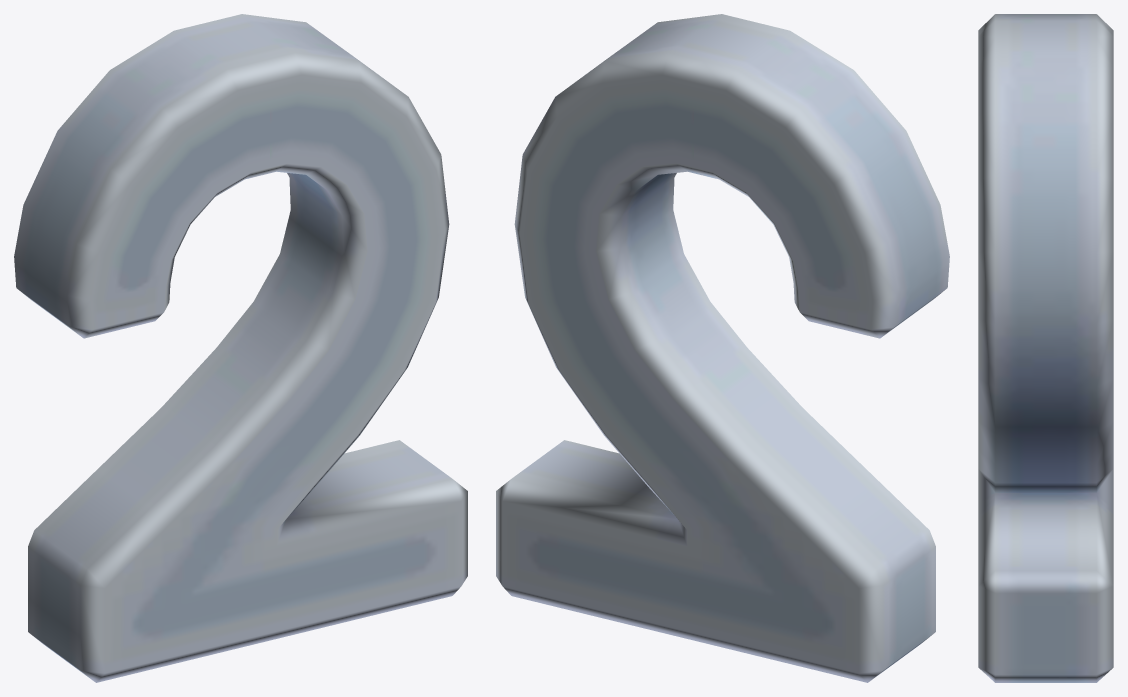
File: rmk_nmb_2.dae
3 renders of one model, left to right at view 1: azimuth 30°, elevation 25°; view 2: azimuth 150°, elevation 25°; view 3: azimuth 270°, elevation 25°, orthographic. The views are drawn at different scales.
Visible parts, largest first — view 1: rmk_nmb_2; view 2: rmk_nmb_2; view 3: rmk_nmb_2.
Part boxes in pixels (x1,y1,x2,y2): rmk_nmb_2: [14, 14, 467, 682]; rmk_nmb_2: [496, 14, 949, 682]; rmk_nmb_2: [978, 14, 1113, 682].
Bounding box in the file's own units: 21.32 × 29.55 × 6.52.
Materials: 1 (1 with a texture image).
